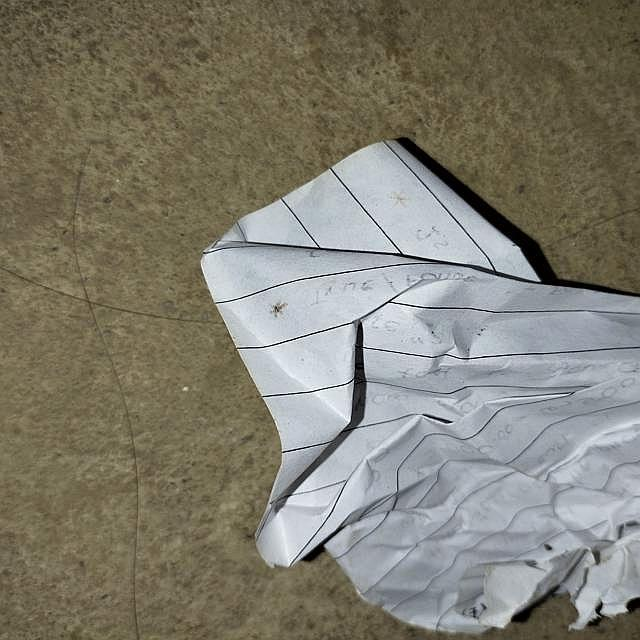Biodegradable: (207, 149, 640, 640)
